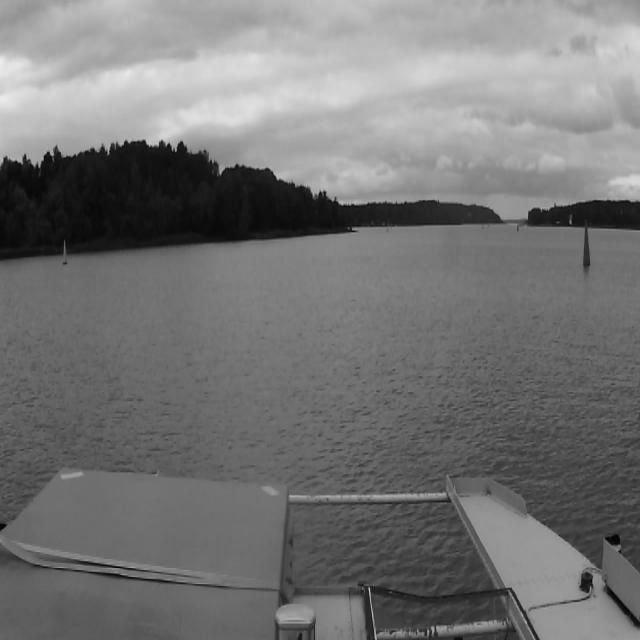buoy: (582, 221, 594, 271), (60, 238, 72, 264), (384, 220, 390, 233), (516, 223, 520, 233), (482, 223, 484, 229), (488, 223, 490, 229)
